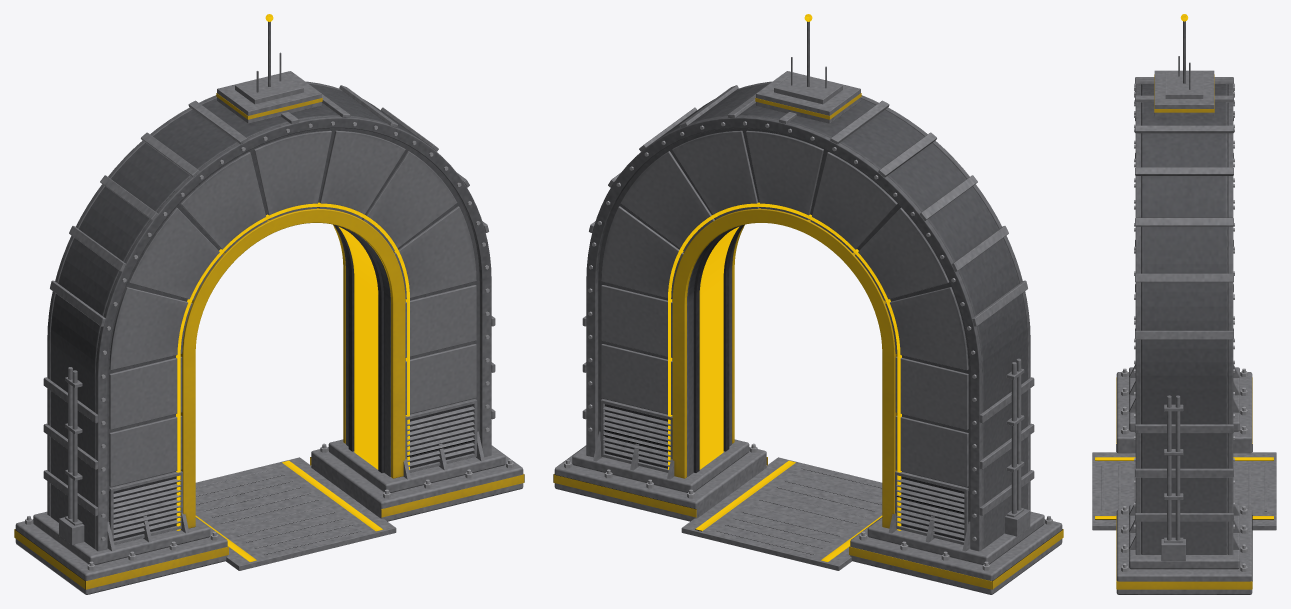
The model's file is gate.glb.
The picture shows the model from 3 angles, left to right: view 1: azimuth 30°, elevation 25°; view 2: azimuth 150°, elevation 25°; view 3: azimuth 270°, elevation 25°; orthographic projection. The views are drawn at different scales.
Visible parts, largest first — view 1: Gate_Baked; view 2: Gate_Baked; view 3: Gate_Baked.
Boxes of the visible parts, box(x1,y1,x2,y2) form: Gate_Baked: box(14, 14, 524, 594); Gate_Baked: box(553, 14, 1063, 594); Gate_Baked: box(1092, 14, 1276, 594).
Size of the model in its own units: 8.91 by 9.75 by 3.4.
1 material, 1 textured.
